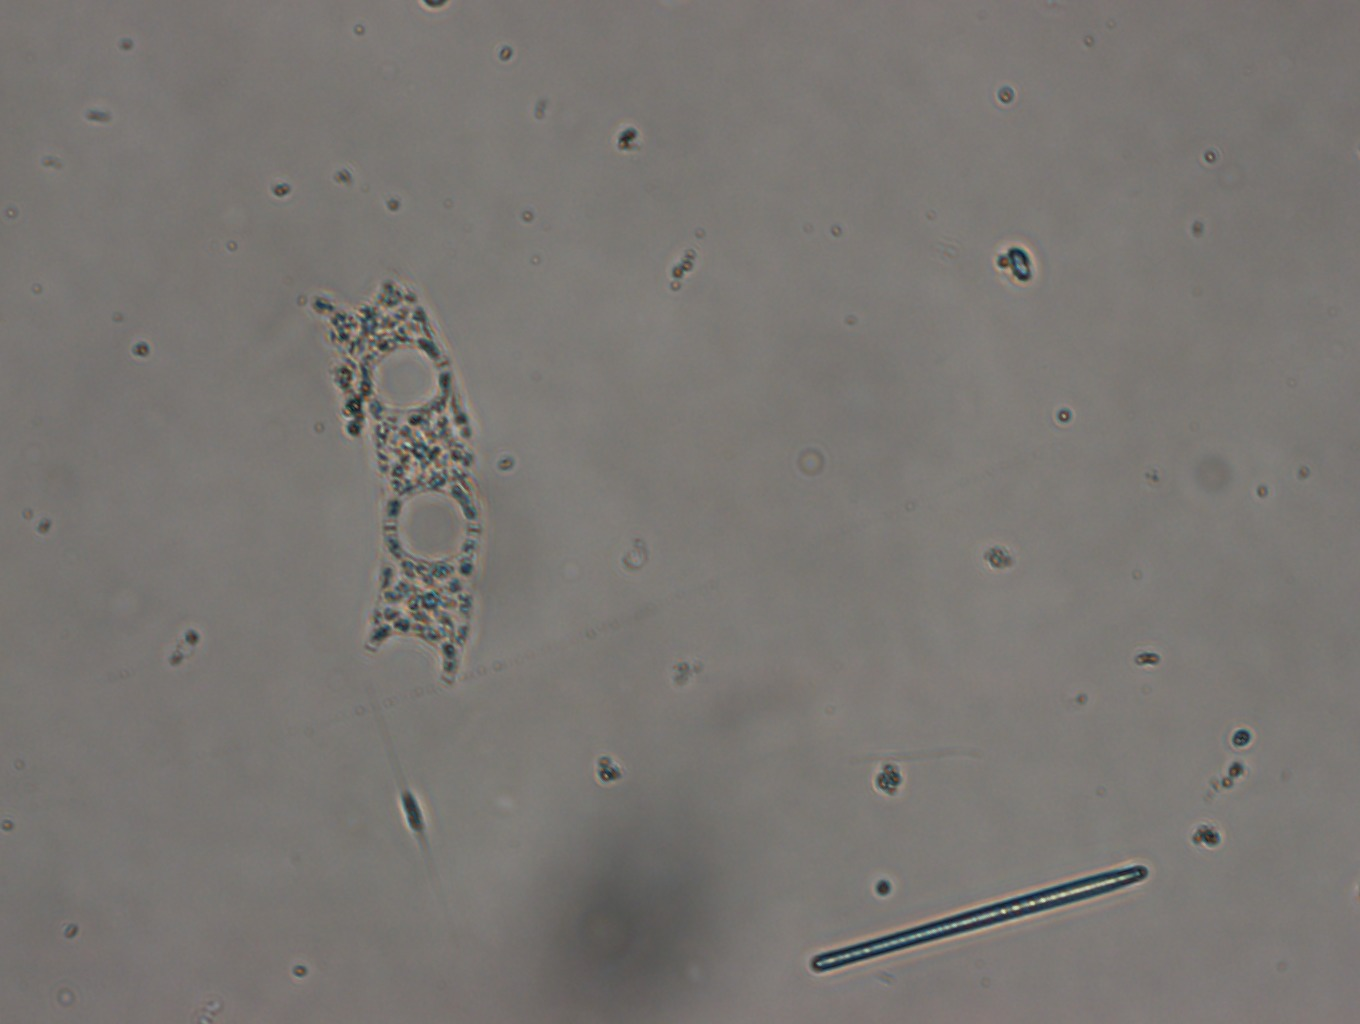eucampia: (299, 273, 488, 679)
